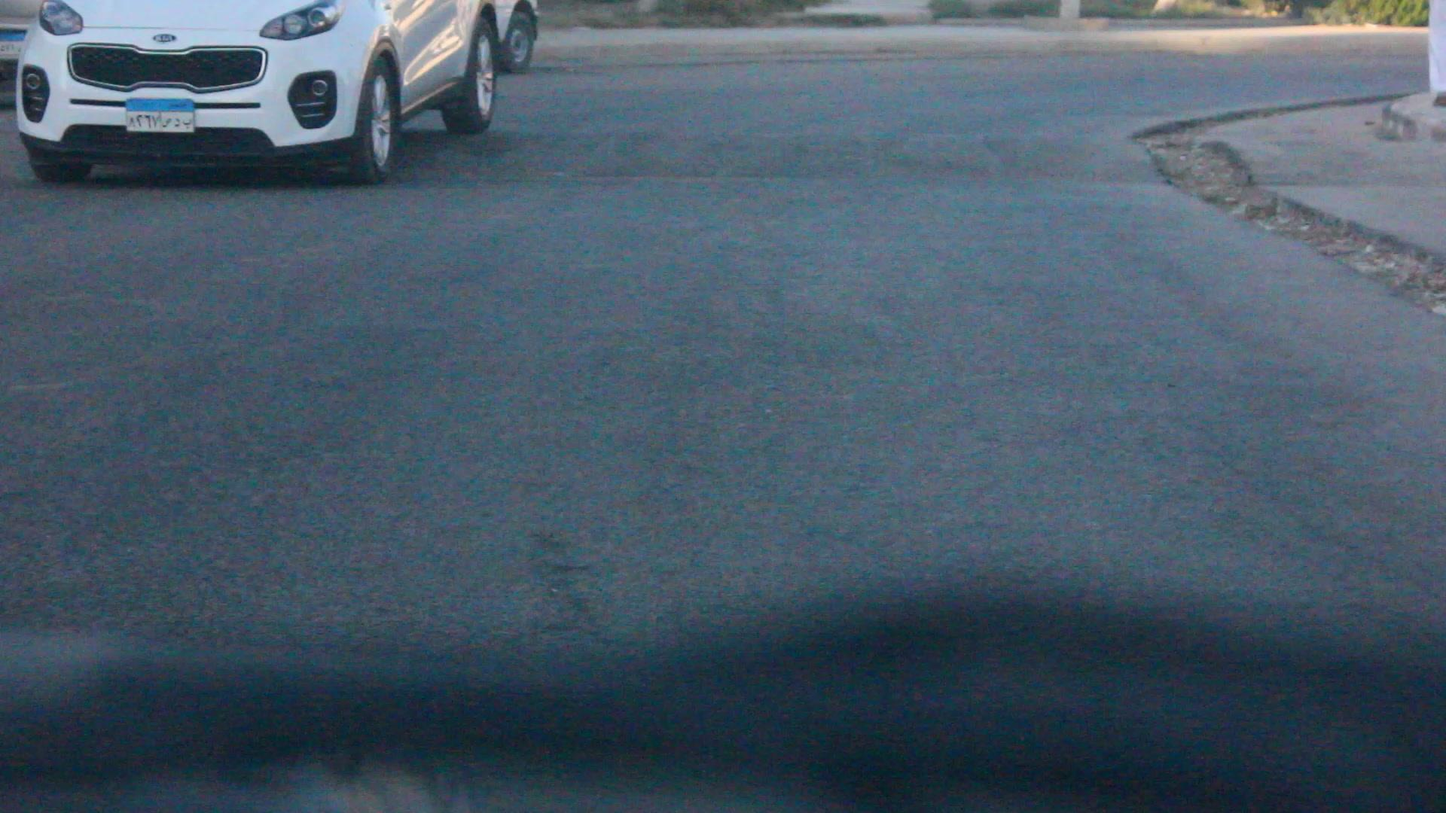Bump: (448, 126, 1182, 192)
